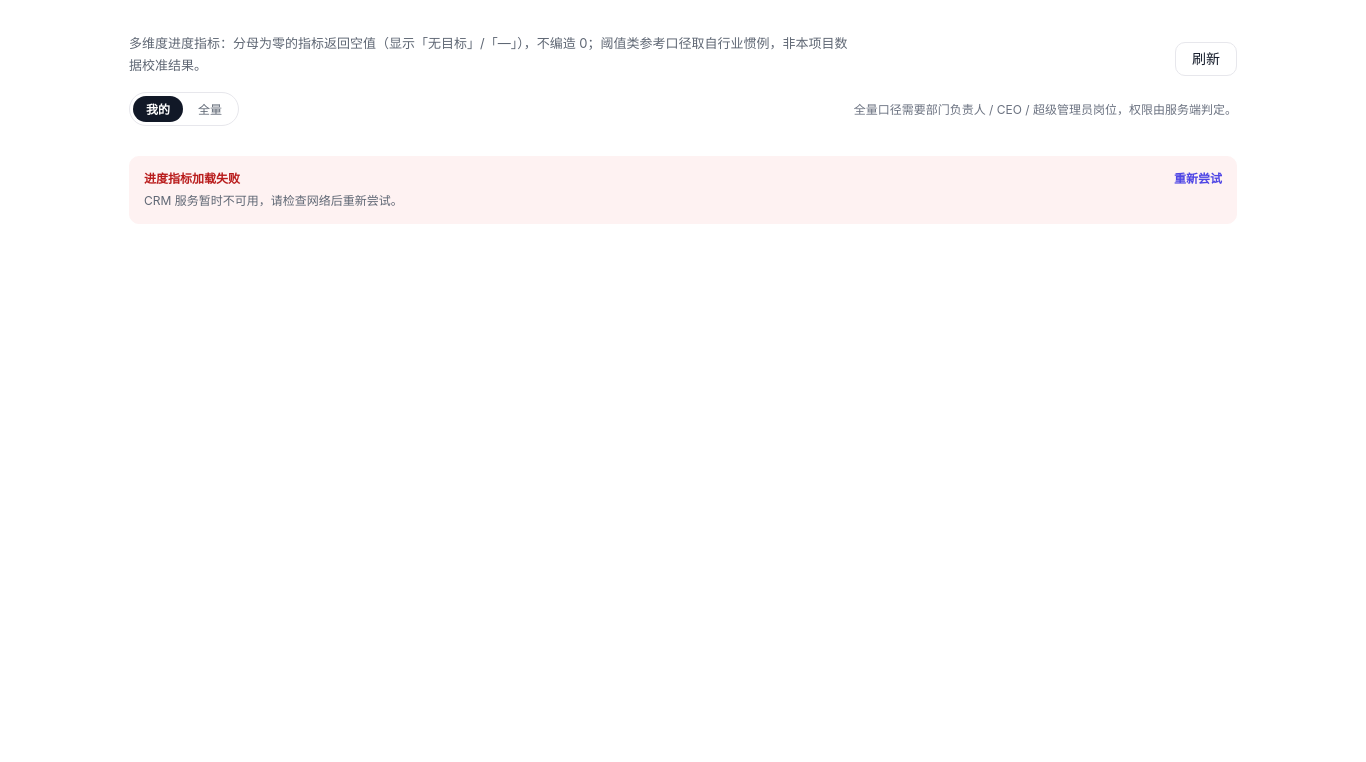
Scenario: CrmProgressPage › shows a retryable failure notice for the default scope
Expected: the message shows "进度指标加载失败", [144, 171, 240, 186]
Click the button "重新尝试": (1198, 179) [1174, 169, 1222, 188]
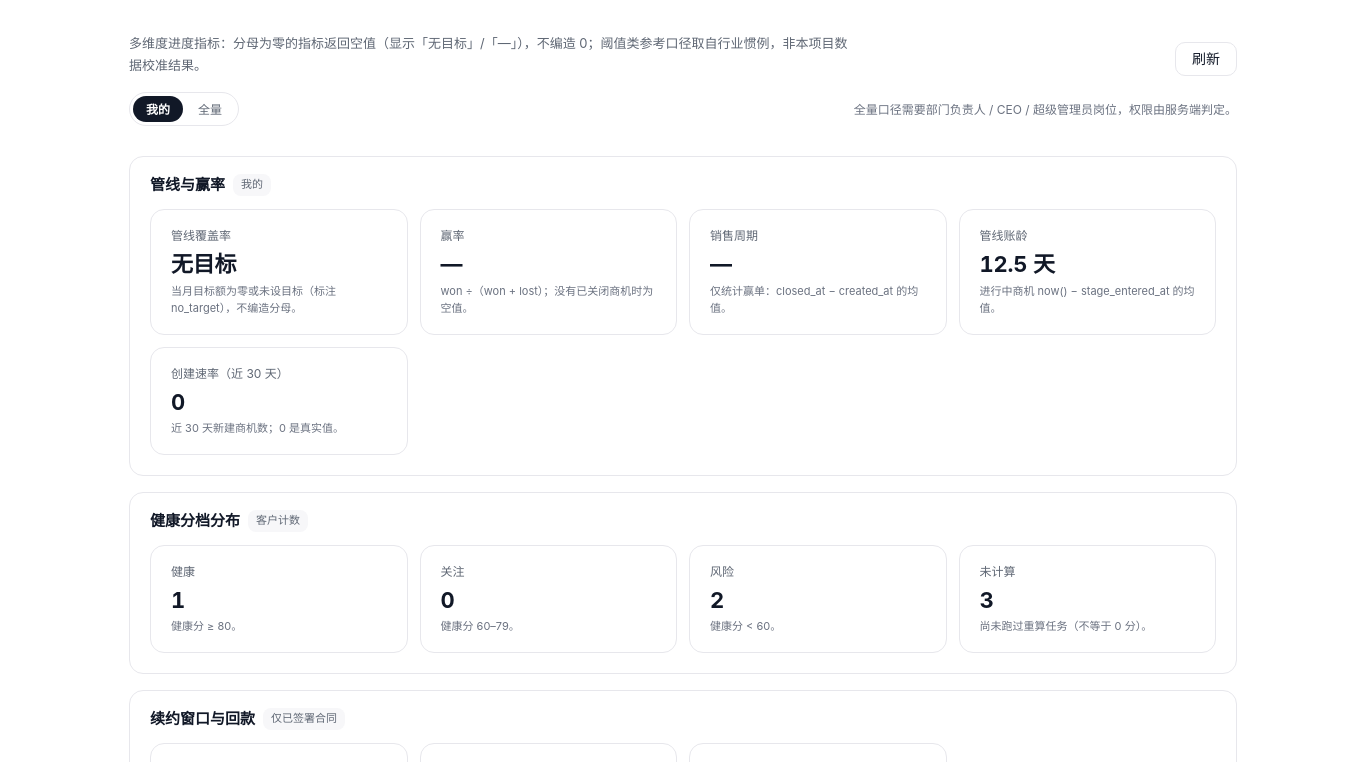
Expected: the text "管线覆盖率" is shown, [171, 228, 231, 243]
